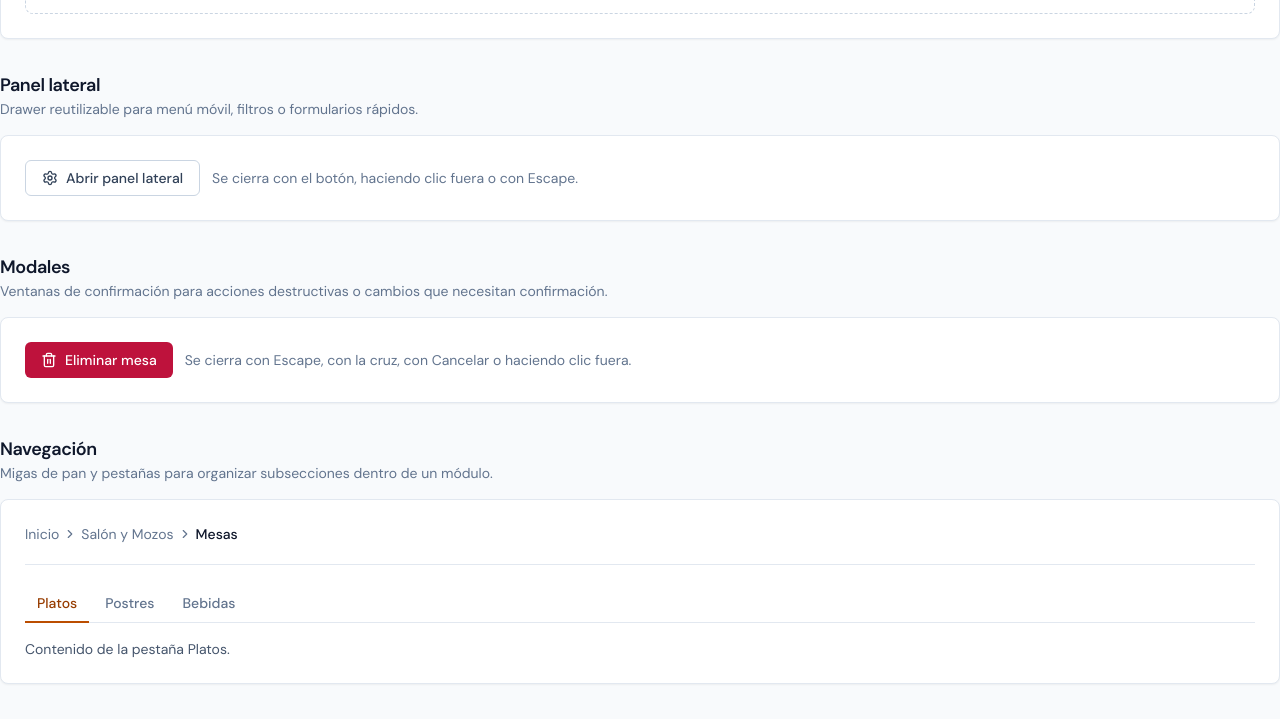
Test: ComponentesPage › abre y cierra el modal de confirmación
(page scrolled)
Click the button "Eliminar mesa". click: (99, 360)
box: x1=25 y1=342 x2=173 y2=378
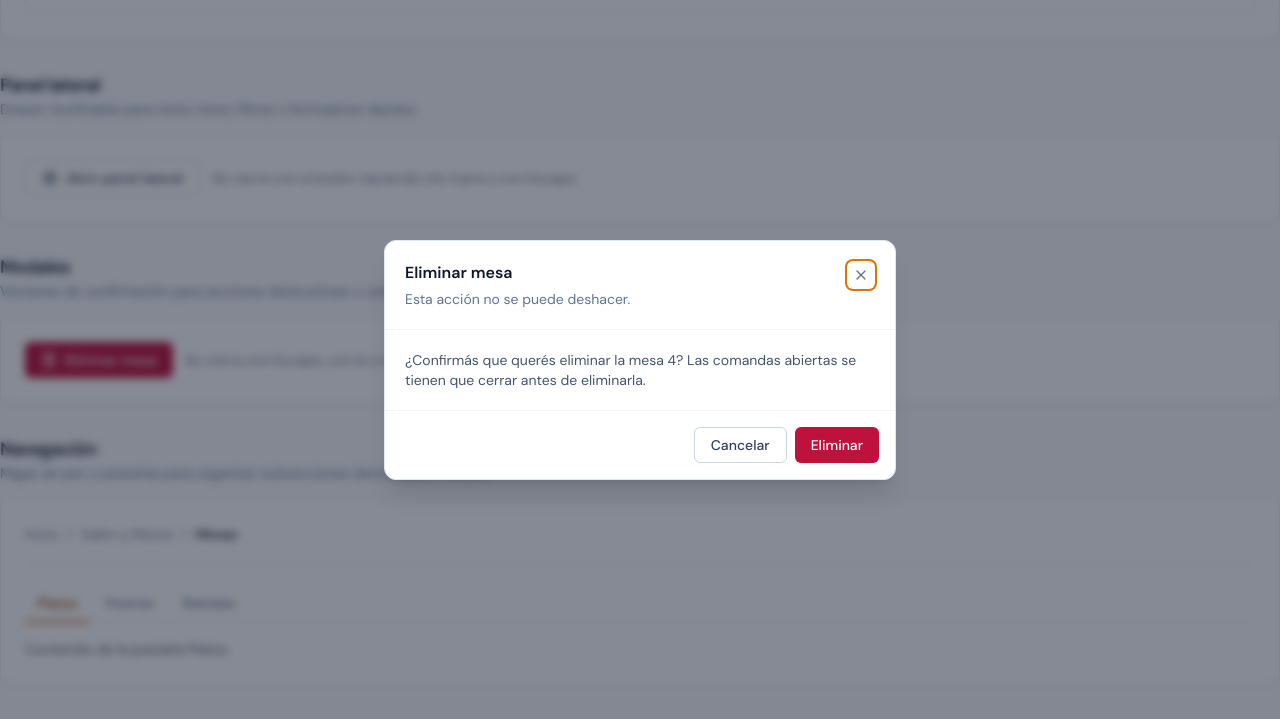
Result: the dialog "Eliminar mesa" is shown at x1=384 y1=240 x2=896 y2=480
Click the button "Cancelar". click: (740, 445)
box: x1=694 y1=427 x2=787 y2=463
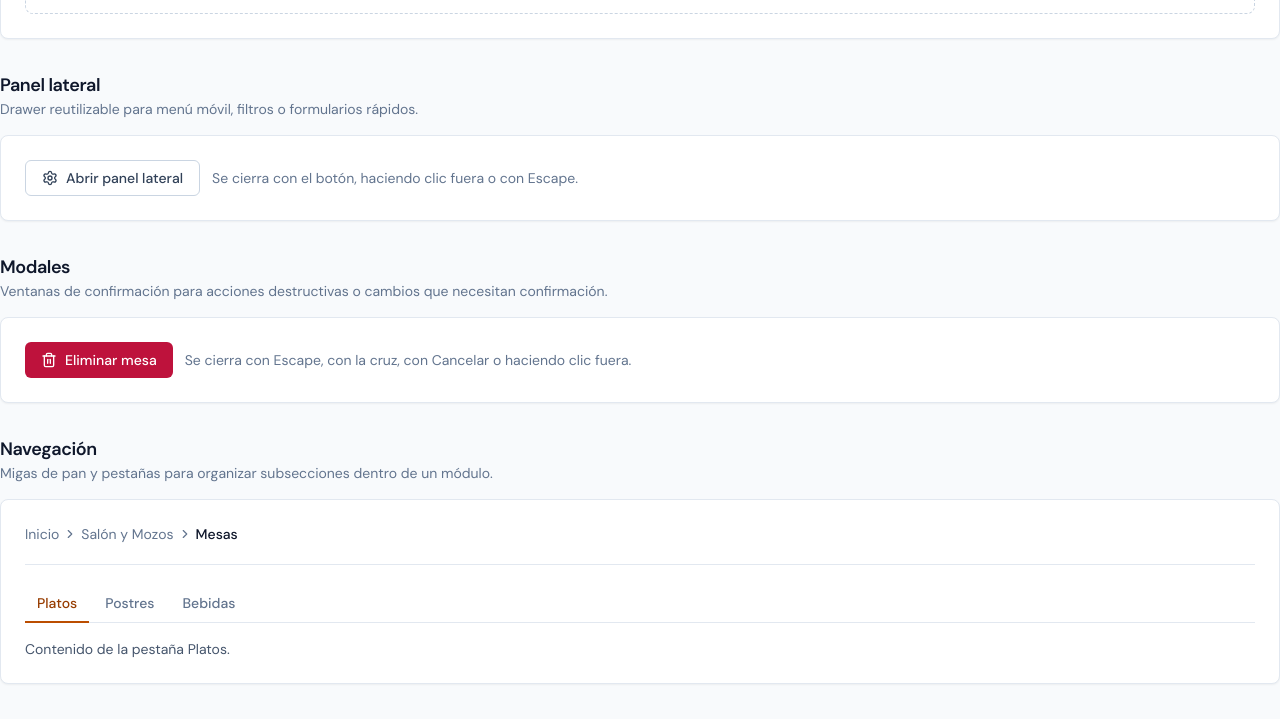
Result: the dialog is gone
